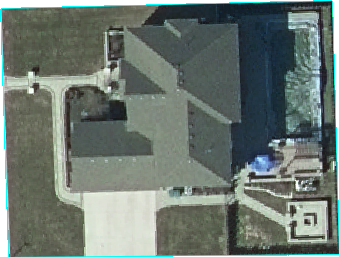house: (67, 18, 243, 192)
